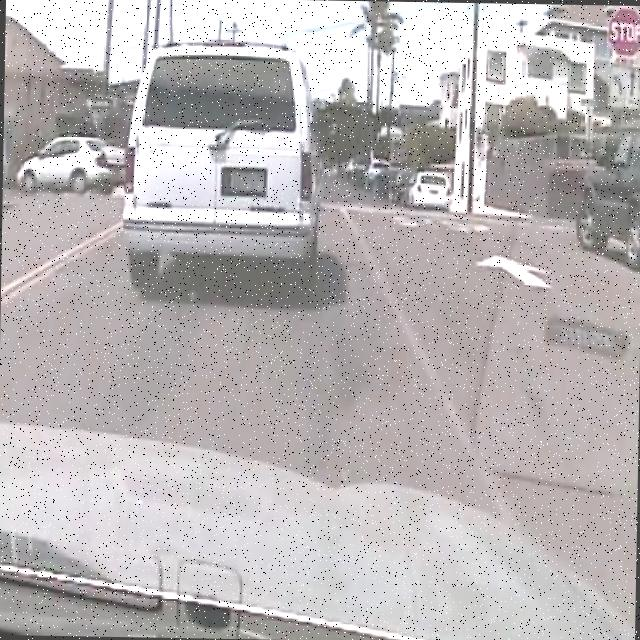Stop: (604, 6, 640, 58)
